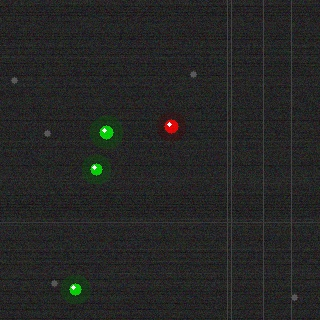green_normal: (97, 123, 115, 141), (88, 161, 104, 177), (67, 281, 83, 297)
red_fault: (162, 117, 180, 135)
